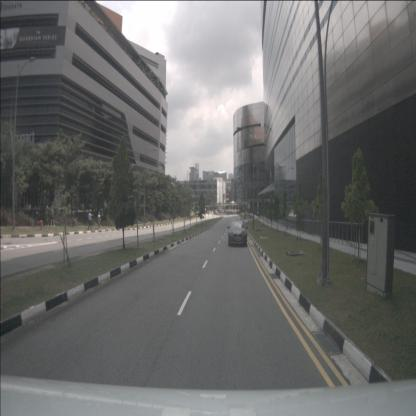human-pedestrian-adult: (87, 210, 94, 230), (44, 206, 50, 228), (33, 204, 39, 226), (50, 204, 55, 228), (97, 210, 102, 231)
vehicle-car: (228, 219, 247, 247)
